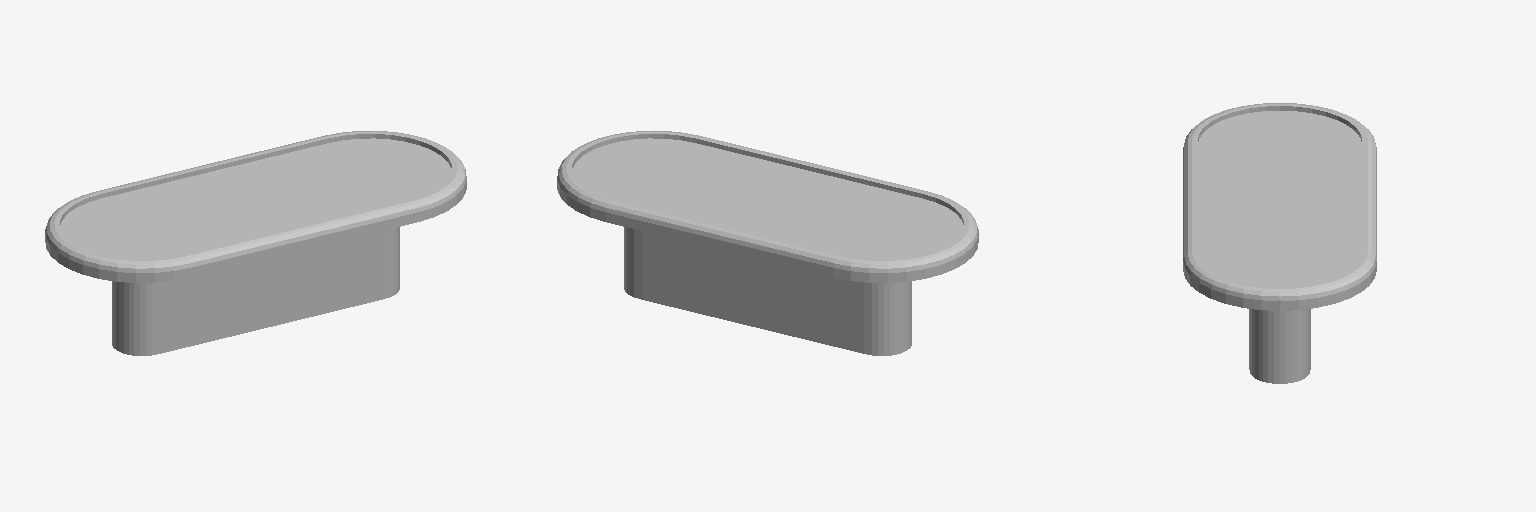
File: table.obj
3 views of the same model, side by side, from view 1: azimuth 30°, elevation 25°; view 2: azimuth 150°, elevation 25°; view 3: azimuth 270°, elevation 25° (orthographic).
Parts seen in each view (by area): view 1: Cube_Cube.001; view 2: Cube_Cube.001; view 3: Cube_Cube.001.
Part boxes in pixels (x1,y1,x2,y2): Cube_Cube.001: (45,131,466,355); Cube_Cube.001: (557,131,978,355); Cube_Cube.001: (1183,103,1376,383).
Size of the model in its own units: 2.64 by 0.76 by 1.12.